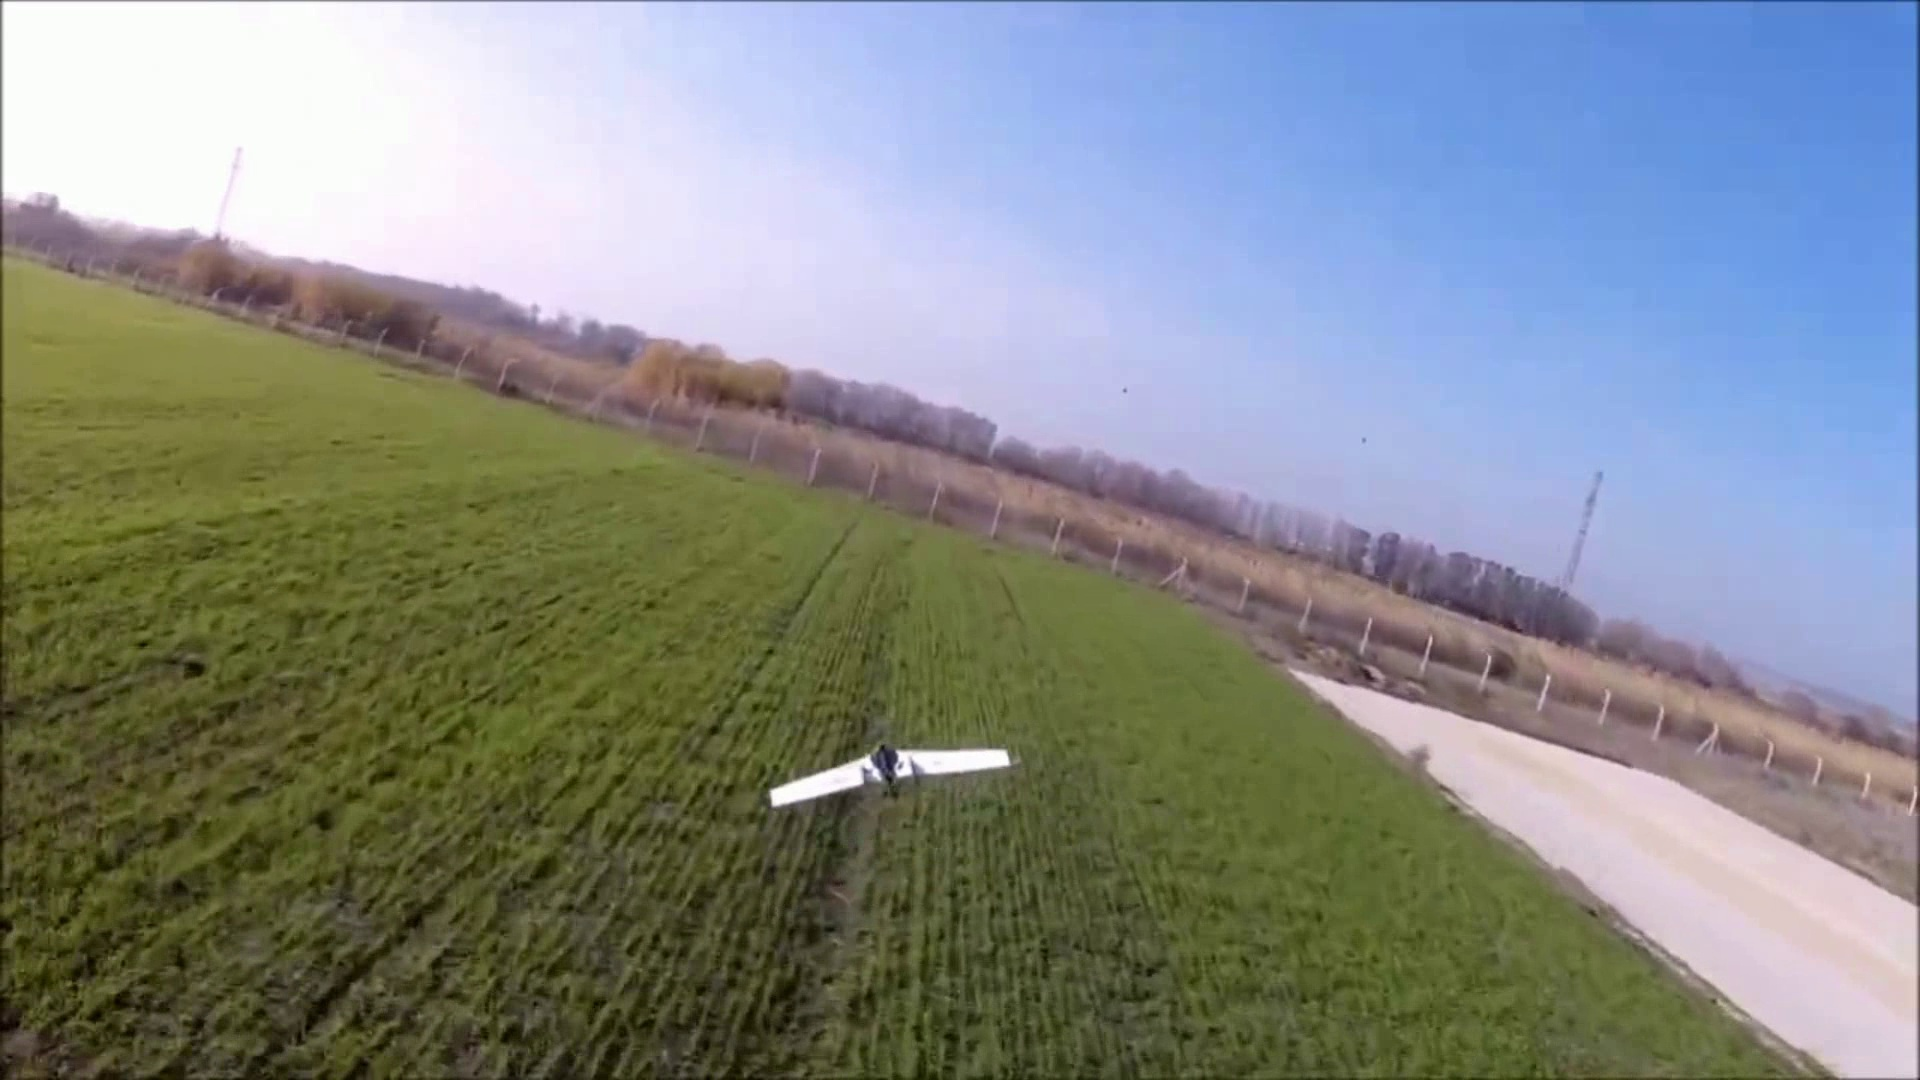airplane: (765, 740, 1015, 811)
